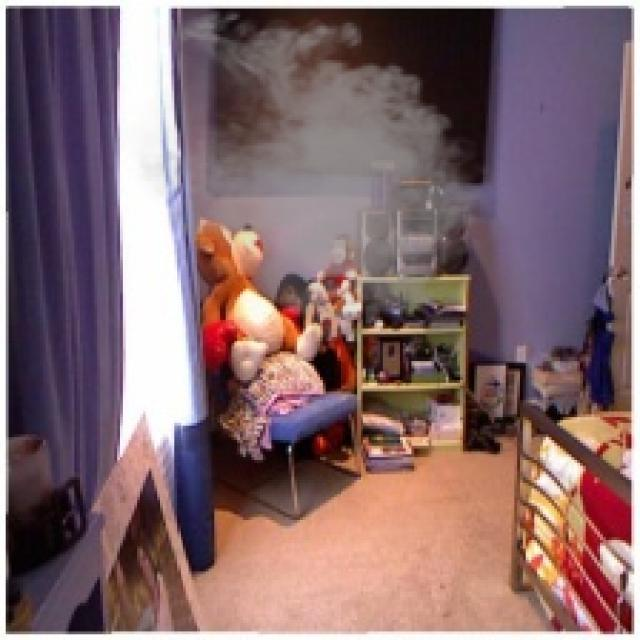Smoke: (114, 0, 503, 346)
